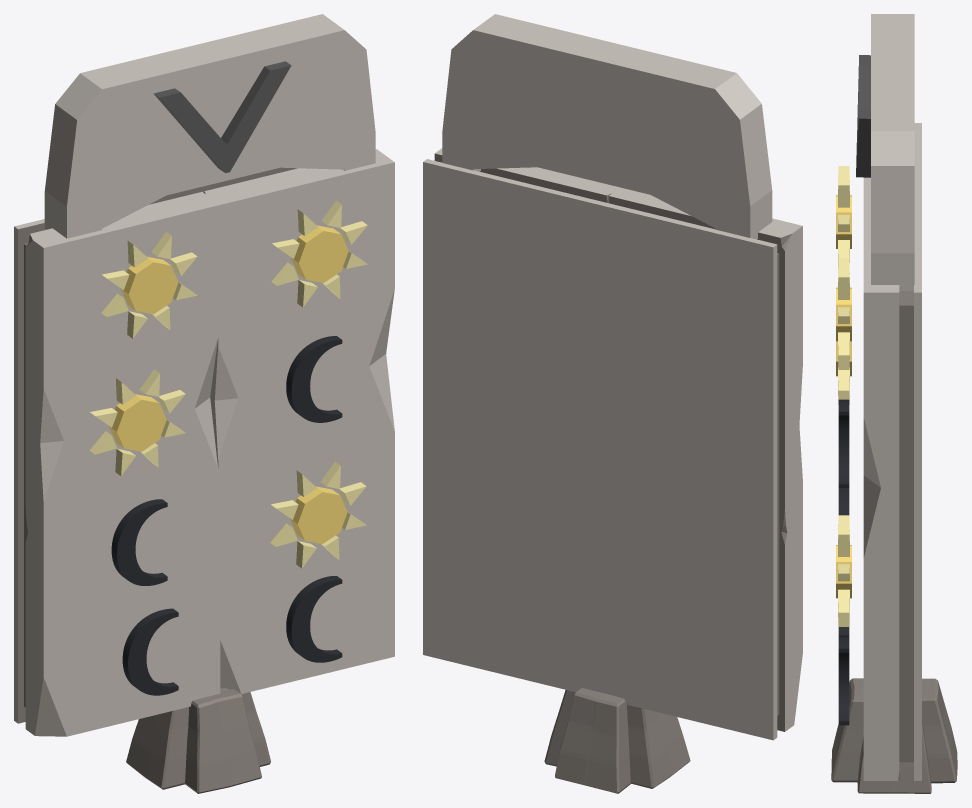
Rendered from SIGN (1).fbx.
3 renders of one model, left to right at view 1: azimuth 30°, elevation 25°; view 2: azimuth 150°, elevation 25°; view 3: azimuth 270°, elevation 25°, orthographic.
Parts seen in each view (by area): view 1: Cube.277; view 2: Cube.277; view 3: Cube.277.
Part boxes in pixels (box(x1,y1,x2,y2)): Cube.277: box(14, 14, 394, 793); Cube.277: box(423, 14, 802, 793); Cube.277: box(831, 14, 957, 793).
Size of the model in its own units: 871 by 1684 by 275.
